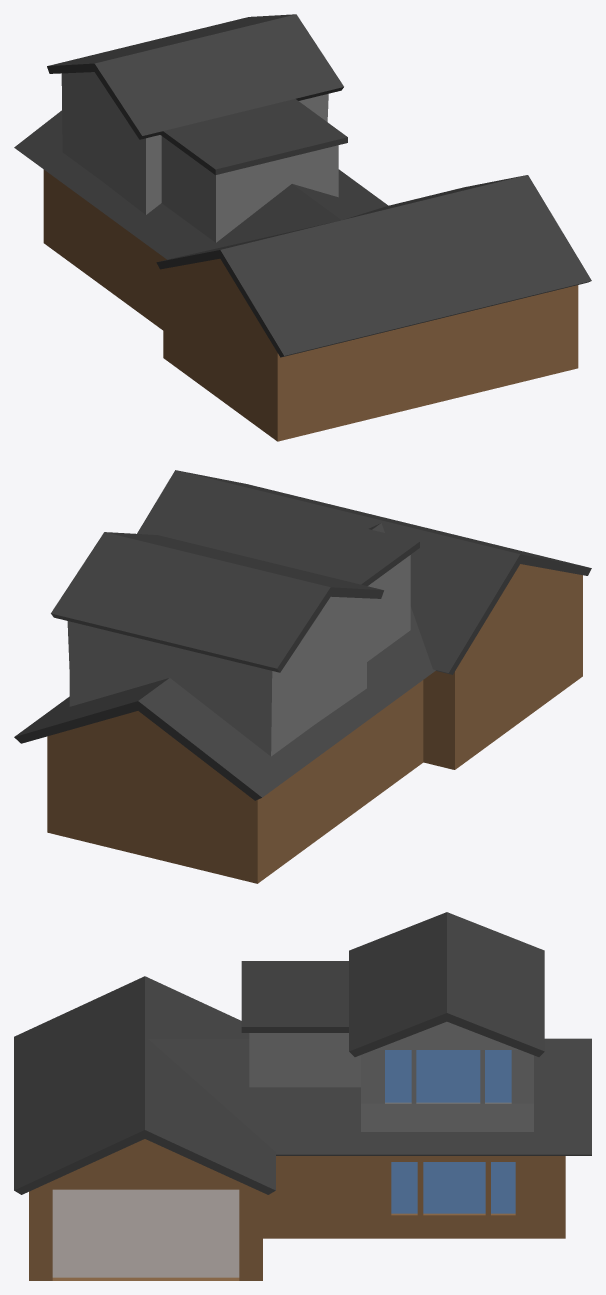
File: House2.glb
The picture shows the model from 3 angles, top to bottom: view 1: azimuth 30°, elevation 25°; view 2: azimuth 150°, elevation 25°; view 3: azimuth 270°, elevation 25°; orthographic projection. The views are drawn at different scales.
Visible parts, largest first — view 1: Roof, Cube.034, Roof.001, Roof.002, Cube.033, Cube.030, Cube; view 2: Cube, Roof.001, Cube.030, Roof, Cube.034, Roof.002, Cube.033; view 3: Roof, Roof.001, Roof.002, Cube, Garage, Cube.034, Cube.030, Window.001, Window.002, Cube.033.
Boxes of the visible parts, box(x1,y1,x2,y2) form: Roof: box(156, 175, 591, 357); Cube.034: box(163, 258, 578, 441); Roof.001: box(47, 14, 347, 174); Roof.002: box(14, 110, 387, 259); Cube.033: box(161, 136, 338, 242); Cube.030: box(61, 72, 328, 214); Cube: box(43, 169, 166, 330); Cube: box(47, 680, 423, 883); Roof.001: box(51, 505, 419, 672); Cube.030: box(67, 596, 366, 756); Roof: box(137, 470, 591, 674); Cube.034: box(423, 564, 582, 769); Roof.002: box(14, 523, 435, 800); Cube.033: box(367, 555, 410, 661); Roof: box(14, 976, 275, 1194); Roof.001: box(241, 912, 544, 1056); Roof.002: box(148, 1038, 591, 1155); Cube: box(263, 1156, 565, 1238); Garage: box(52, 1189, 239, 1277); Cube.034: box(29, 1139, 262, 1280); Cube.030: box(361, 1021, 533, 1131); Window.001: box(385, 1050, 511, 1102); Window.002: box(391, 1162, 515, 1213); Cube.033: box(249, 1033, 360, 1087).
Bounding box in the file's own units: 6.59 × 4.58 × 10.47.
